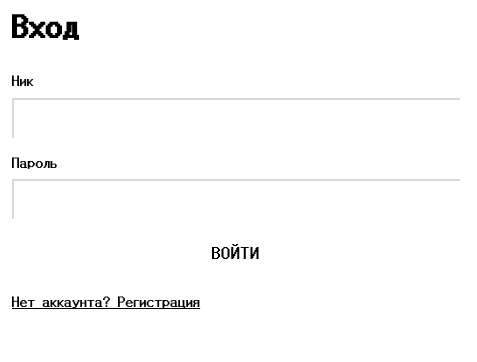
Test: LoginForm integration › shows api error on unauthorized login
In the field labelled "Ник": (236, 118) [12, 98, 460, 138], type "racer_one"
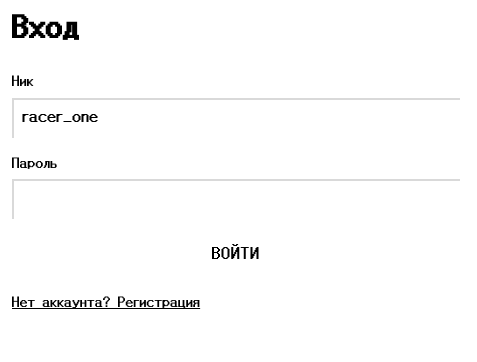
In the password field labelled "Пароль": (236, 199) [12, 179, 460, 219], type "1234"
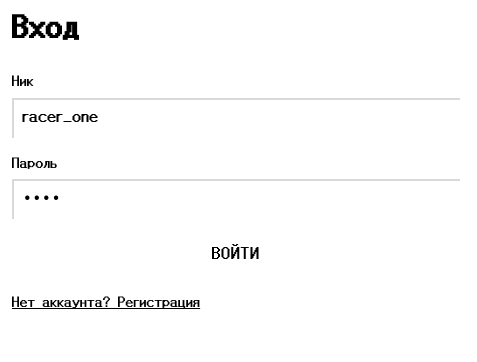
Click the button "Войти": (236, 255) [12, 235, 460, 275]
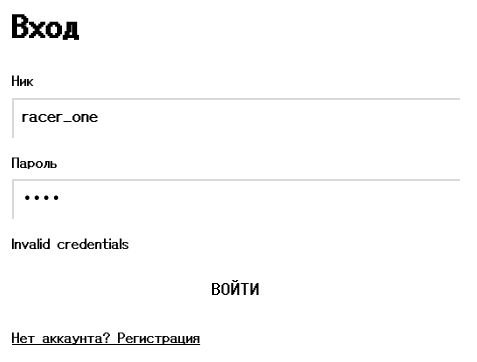
Expected: the message reads "Invalid credentials", [12, 238, 129, 252]
